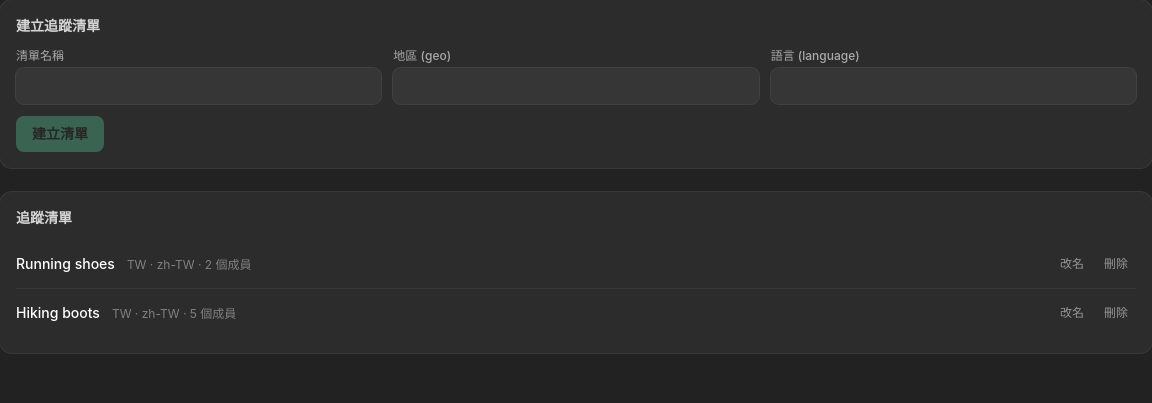
Test: TC-40 · TrackingListsView › renames a list via PATCH { name } and shows the new name (other rows untouched)
Click the button with aria-label "改名 Running shoes". click: click(1072, 264)
box: [1052,252,1092,276]
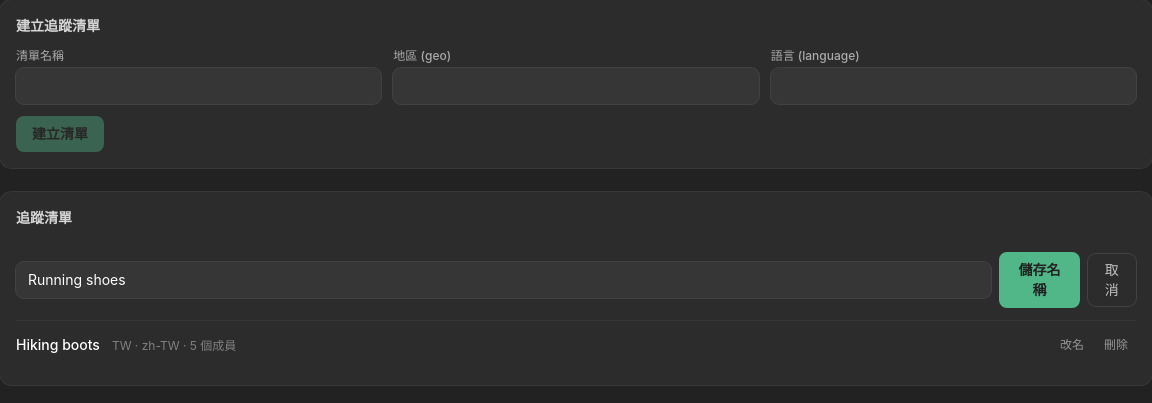
Replace the text in the field named "重新命名 Running shoes" with "Trail shoes". click: (504, 280)
box: [16,262,991,298]
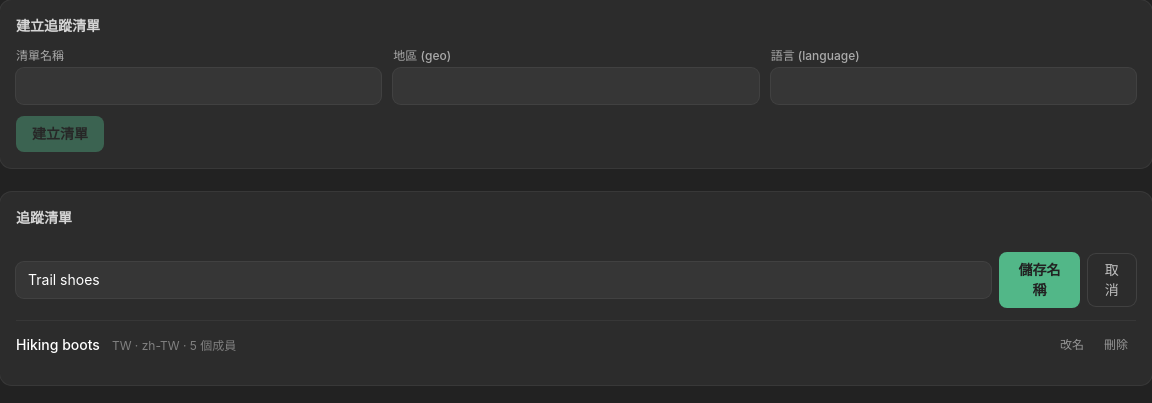
Click the button "儲存名稱". click: click(1039, 280)
box: [999,252,1080,308]
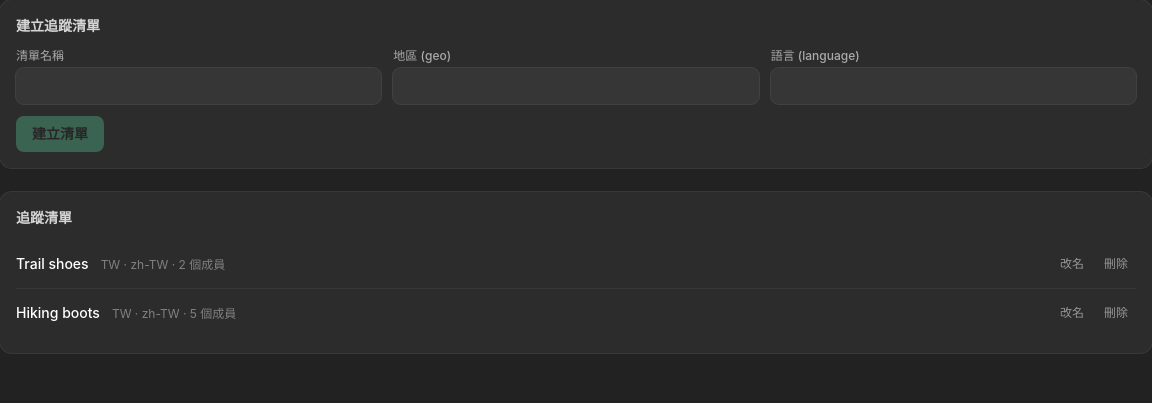
Expected: the button "Hiking boots" is shown, [16,303,100,323]
Now the button "Trail shoes" is shown, box [16,254,89,274]
